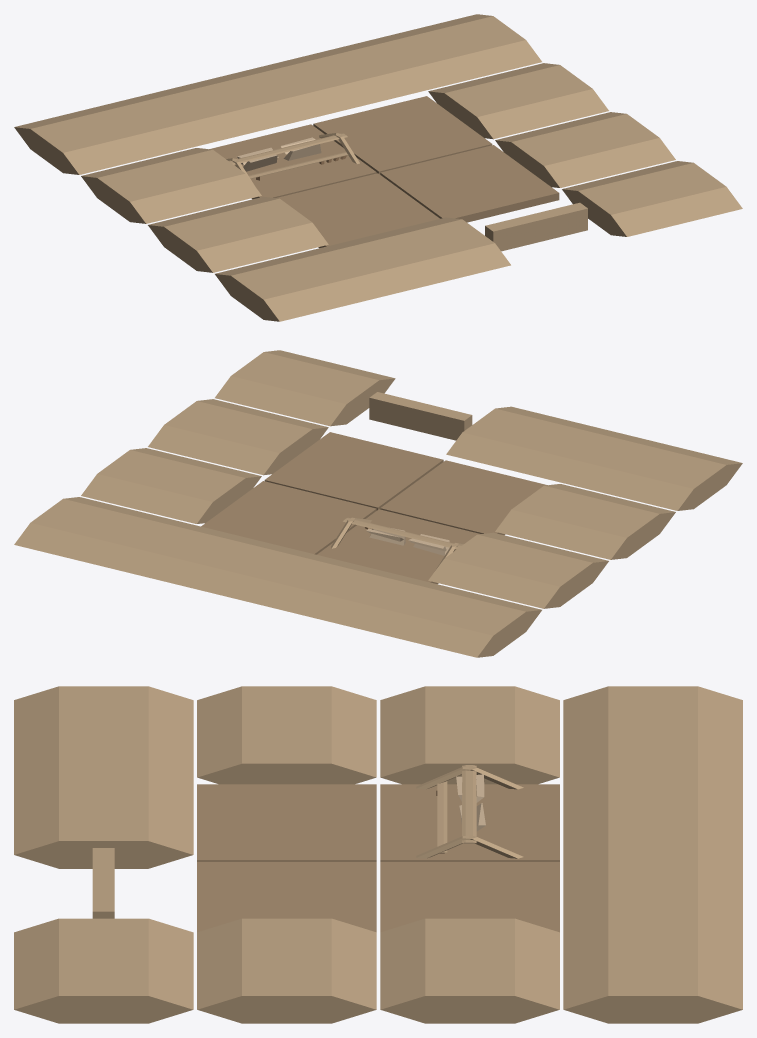
Rendered from building_smokehouse_foundation.glb.
The picture shows the model from 3 angles, top to bottom: view 1: azimuth 30°, elevation 25°; view 2: azimuth 150°, elevation 25°; view 3: azimuth 270°, elevation 25°; orthographic projection. The views are drawn at different scales.
Parts seen in each view (by area): view 1: building_smokehouse_foundation; view 2: building_smokehouse_foundation; view 3: building_smokehouse_foundation.
Part boxes in pixels (x1=…): building_smokehouse_foundation: x1=14, y1=14, x2=742, y2=321; building_smokehouse_foundation: x1=14, y1=350, x2=742, y2=657; building_smokehouse_foundation: x1=14, y1=686, x2=742, y2=1023.
Bounding box in the file's own units: 4 × 0.1812 × 3.98.
